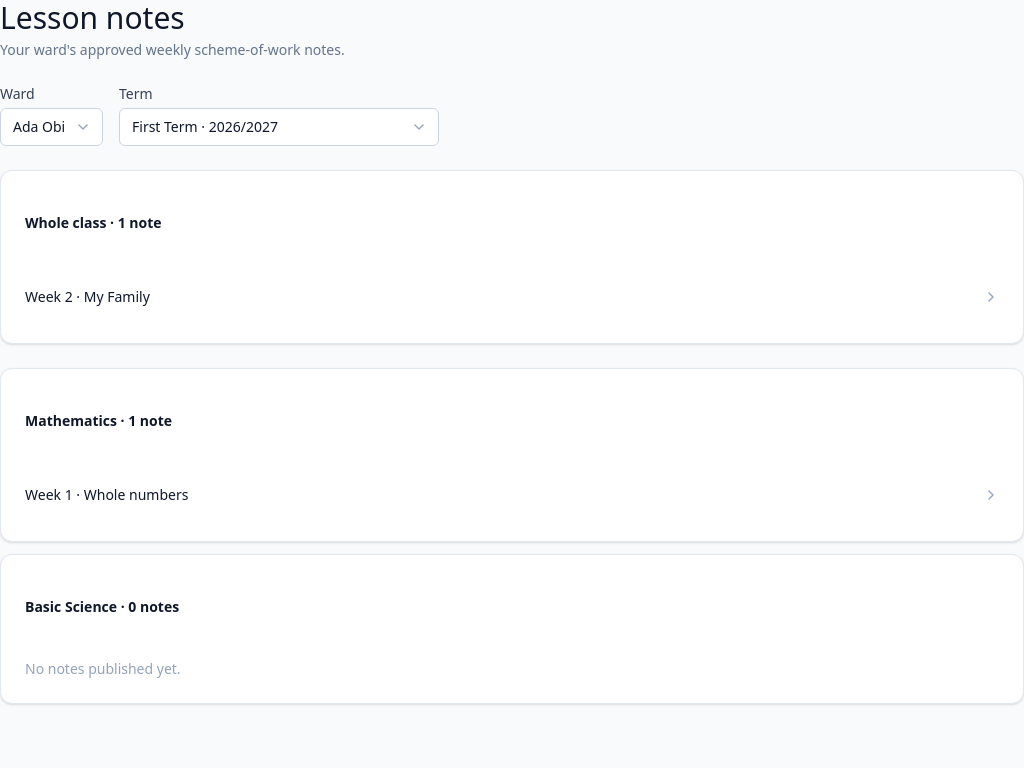
WardLessonNotesPage › lists the class's whole-class notes in their own section and opens one
expect the heading "Whole class · 1 note" is shown: met, box [25, 213, 162, 233]
What coordinates should you click on to do the following:
click the button "Week 2 · My Family"
I would click on:
 (45, 296)
Its box is [25, 275, 999, 319].
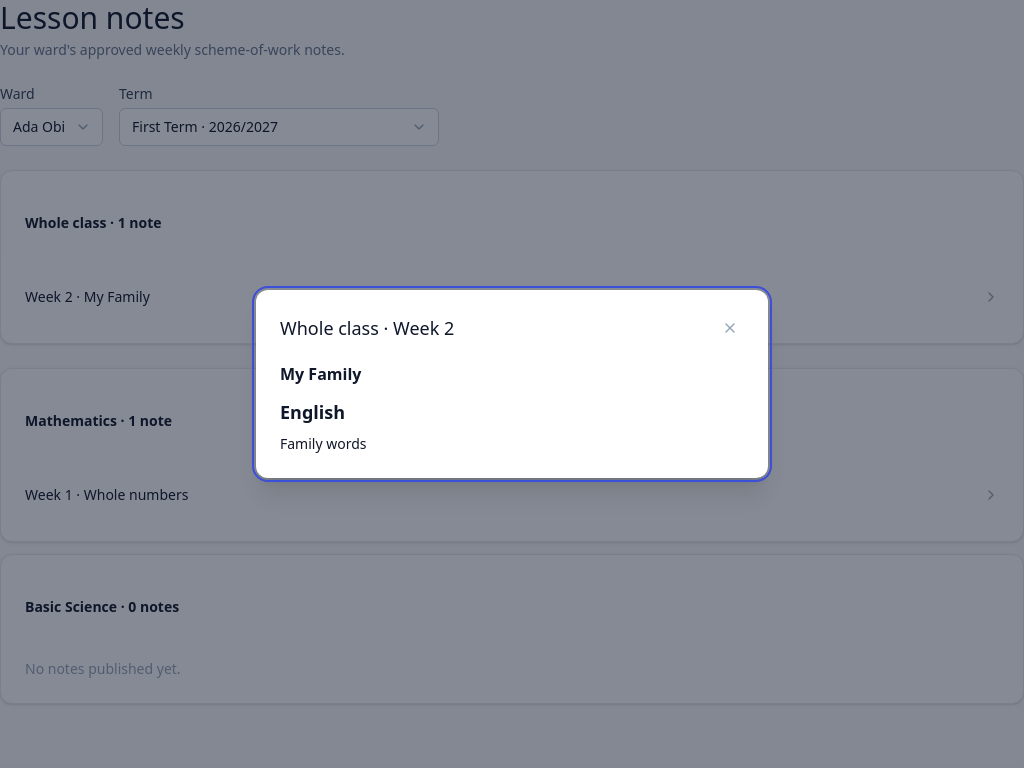
expect the heading "English" is shown: met, box [280, 400, 345, 424]
